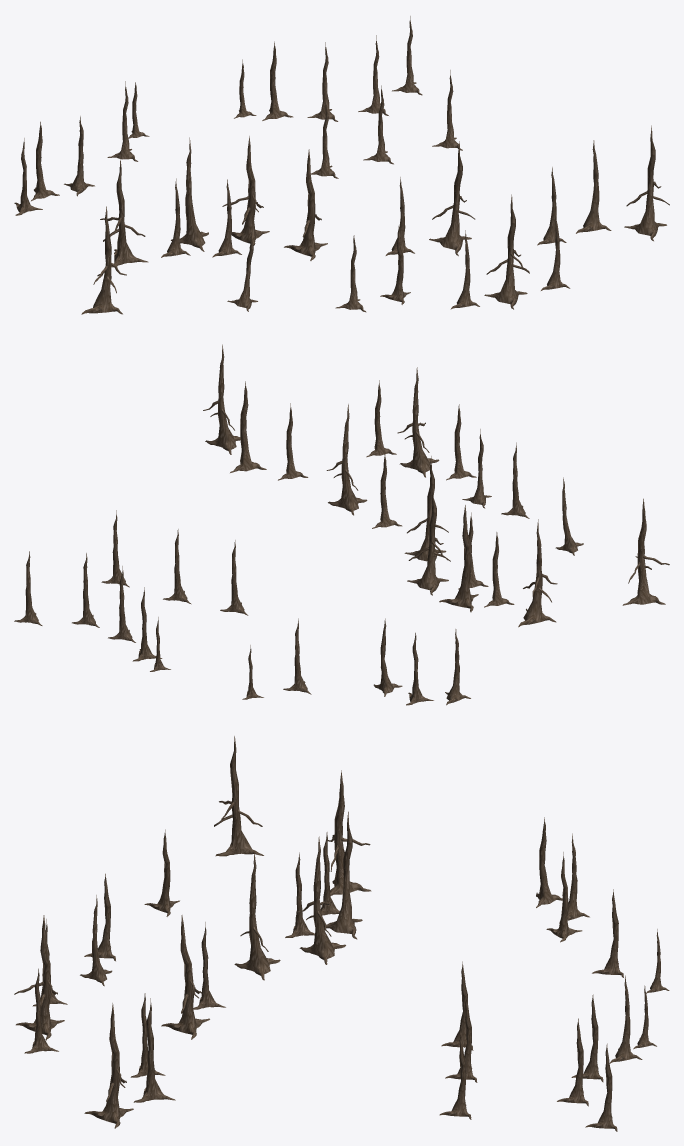
File: songshugan_05.FBX
3 renders of one model, top to bottom at view 1: azimuth 30°, elevation 25°; view 2: azimuth 150°, elevation 25°; view 3: azimuth 270°, elevation 25°, orthographic. The views are drawn at different scales.
Visible parts, largest first — view 1: Object024; view 2: Object024; view 3: Object024.
Boxes of the visible parts, x1,y1,x2,y2 form: Object024: (14,16,669,314); Object024: (14,344,669,705); Object024: (14,736,669,1131).
Size of the model in its own units: 11720 by 2587 by 11187.
